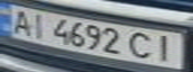2: (100, 25, 127, 56)
4: (48, 16, 72, 45)
6: (66, 20, 87, 48)
9: (81, 22, 106, 52)
A: (6, 7, 36, 36)
C: (127, 29, 160, 61)
I: (151, 33, 184, 63), (24, 11, 51, 39)
